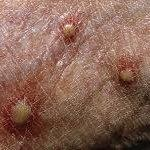Ants: (0, 86, 40, 137), (53, 9, 88, 46), (119, 68, 141, 90)
